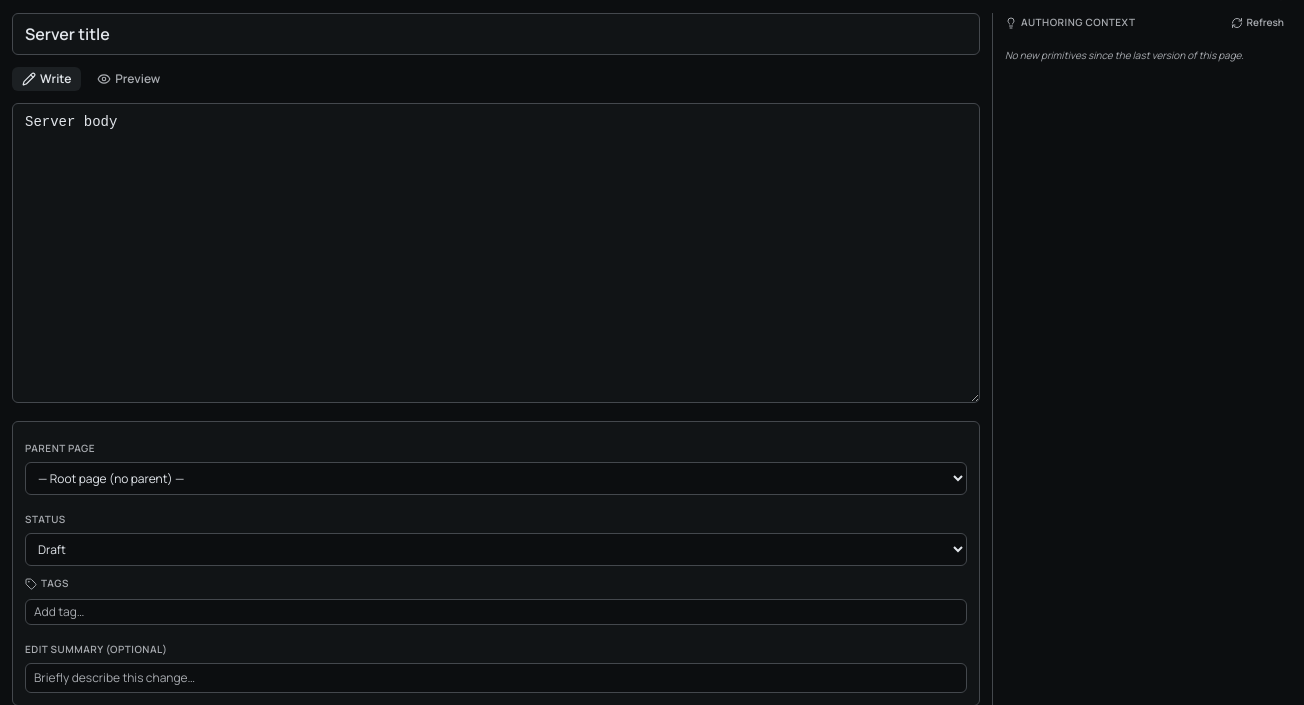
Test: WikiEditor draft lifecycle › acknowledges only submitted text and retains later edits and unsaved metadata
Check: the text box showing "Server body" is shown, box [12, 103, 980, 403]
Replace the text in the field with placeholder "Page title…" with "  New title  ": [496, 34] box [12, 13, 980, 55]
Replace the text in the text box with placeholder "Write page content in markdown…" with "First body": [496, 253] box [12, 103, 980, 403]
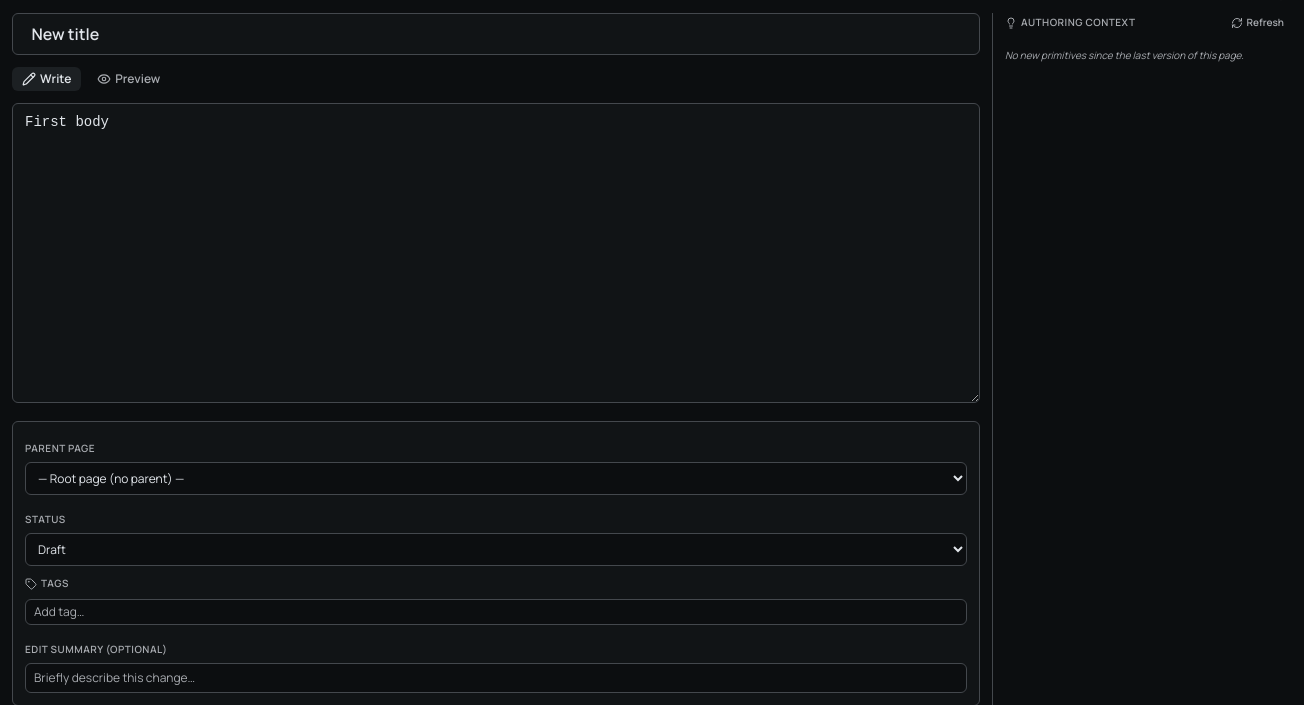
In the field with placeholder "Briefly describe this change…": [496, 678] box [25, 663, 967, 693], type "First summary"
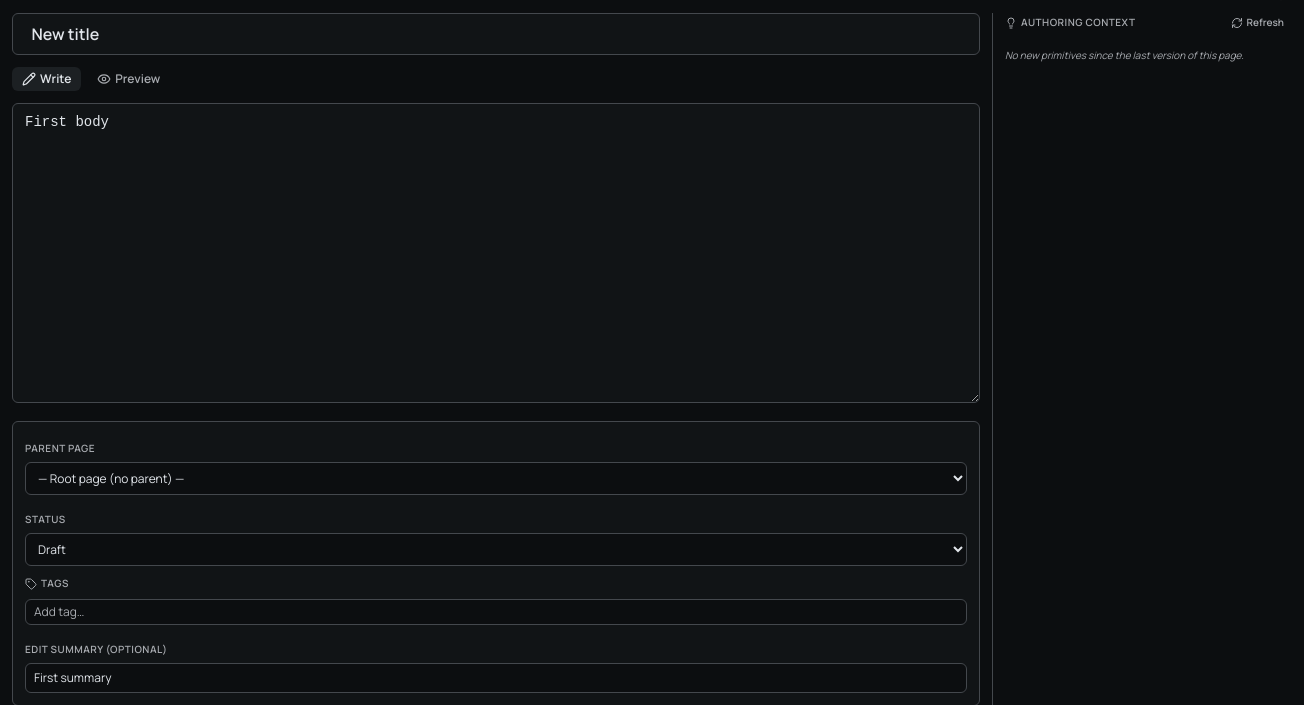
Select "Published" in the dropdown labelled "Status": [496, 550] box [25, 533, 967, 566]
(page scrolled)
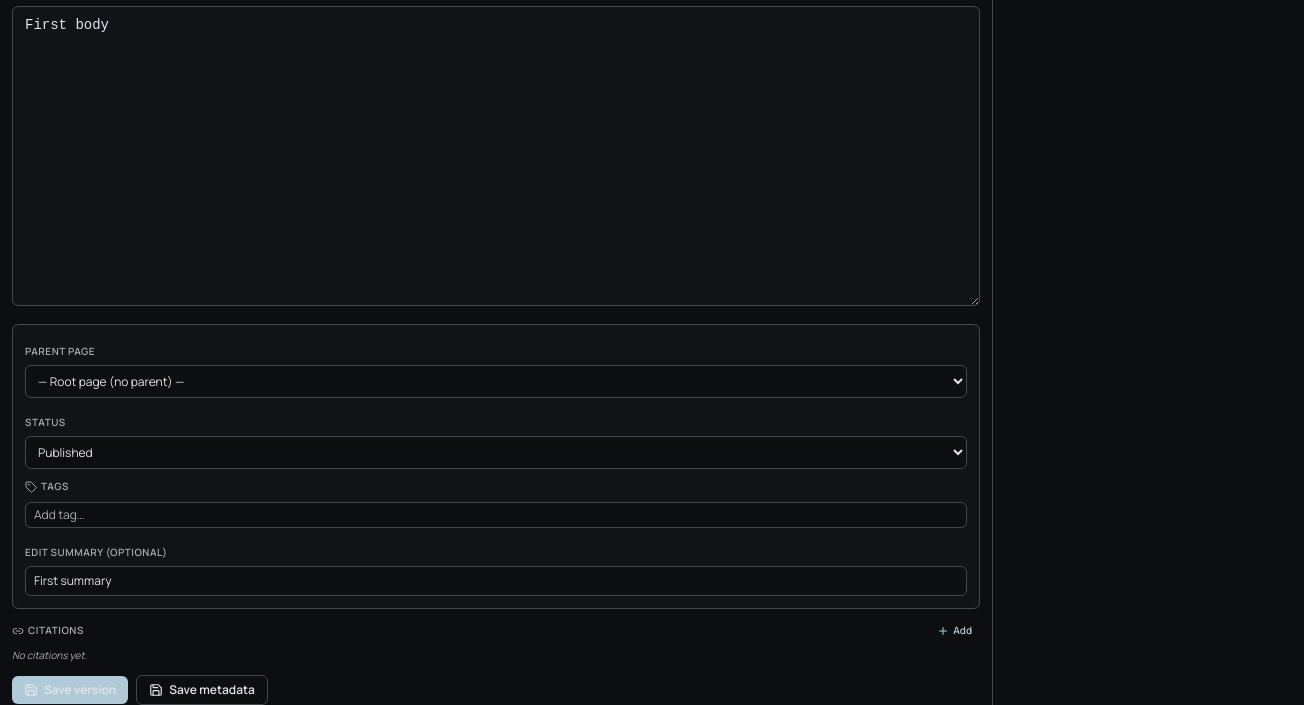
Click the button "Save version": [70, 690] box [12, 676, 128, 704]
(page scrolled)
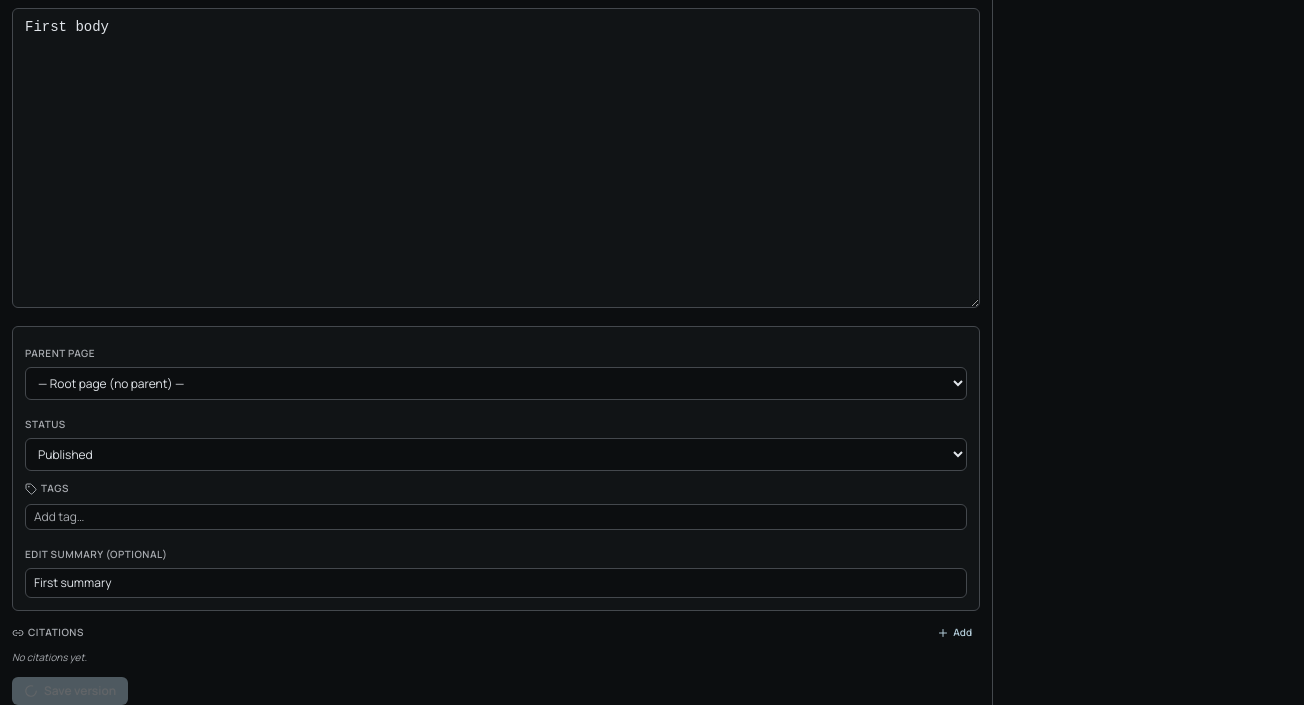
Replace the text in the text box with placeholder "Write page content in markdown…" with "Later body": [496, 158] box [12, 8, 980, 308]
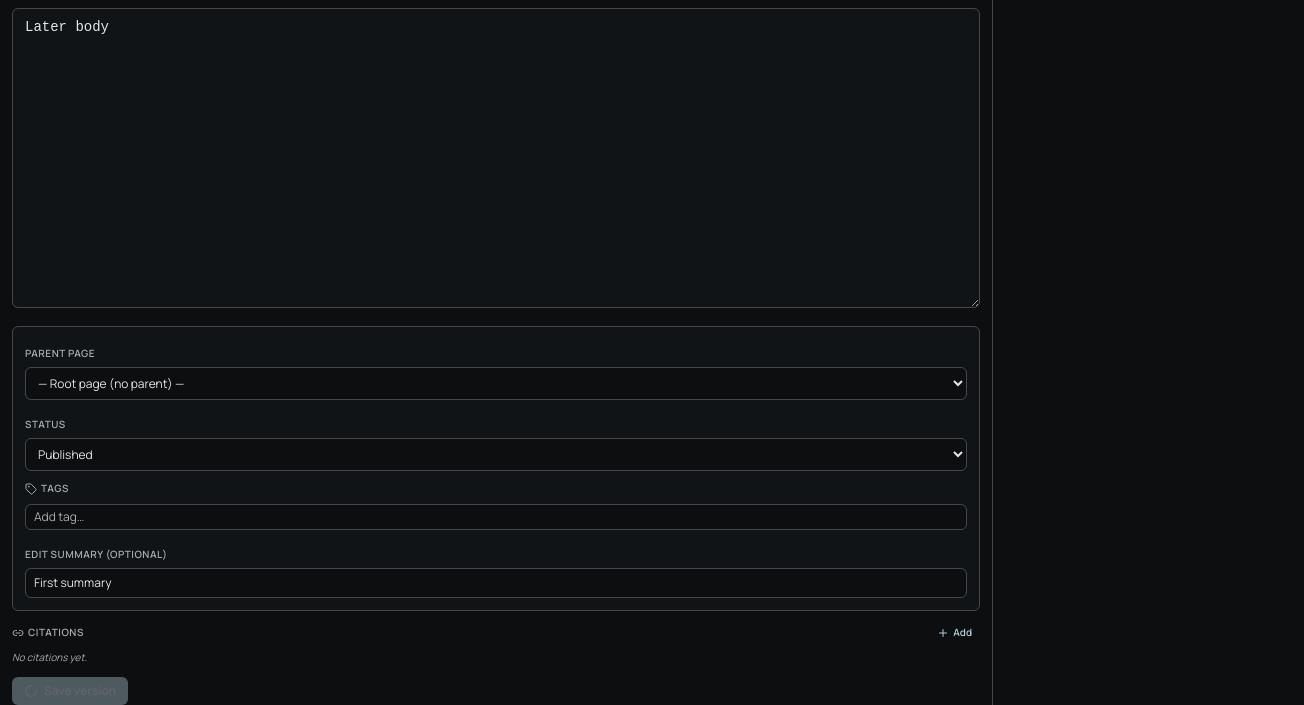
Replace the text in the field with placeholder "Briefly describe this change…" with "Later summary": [496, 583] box [25, 568, 967, 598]
(page scrolled)
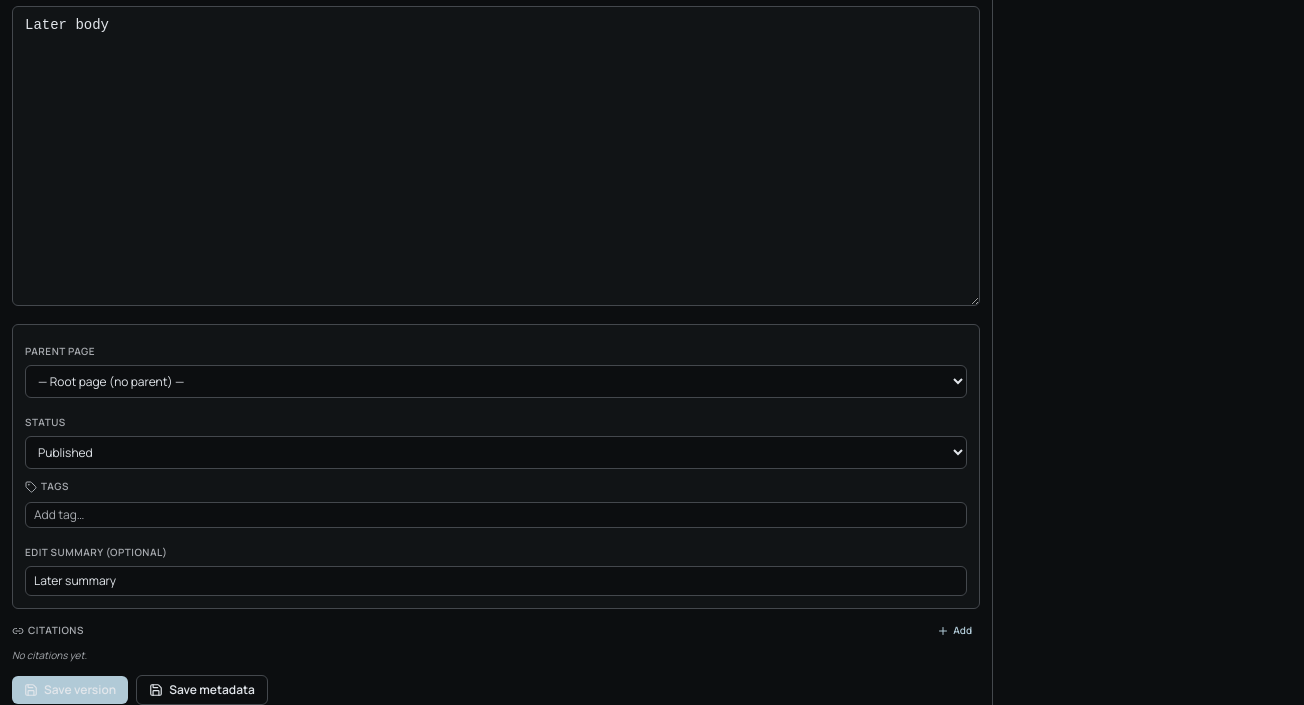
Check: the button "Save version" is enabled, box [12, 676, 128, 704]
Check: the button "Save metadata" is enabled, box [136, 675, 268, 704]
